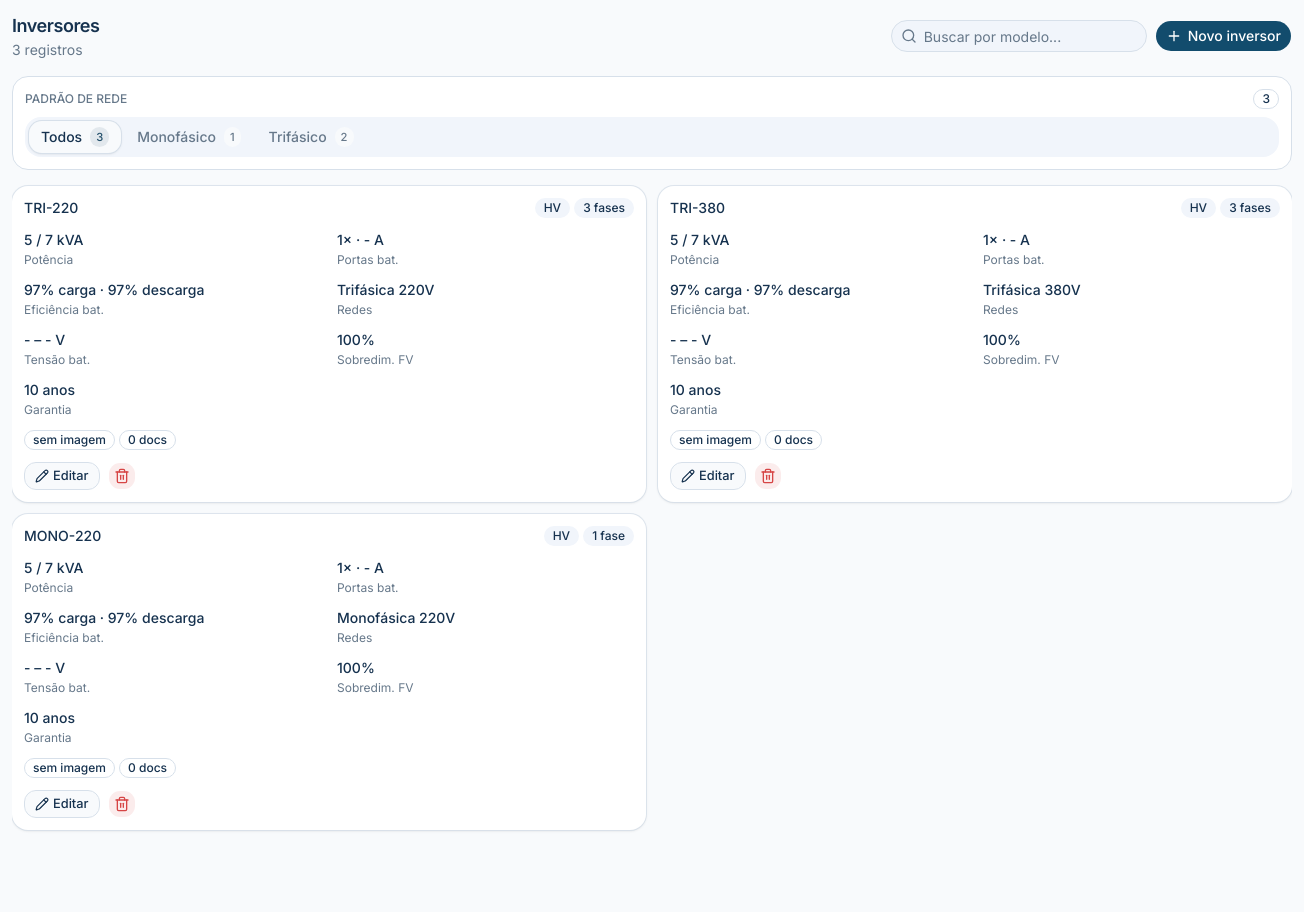
Scenario: InvertersEditor: listing › sub-groups Trifásico by grid voltage (220V/380V), and resets the voltage filter when switching phases
Click the button "Trifásico 2" at (311, 137), box 257,121 -> 366,153
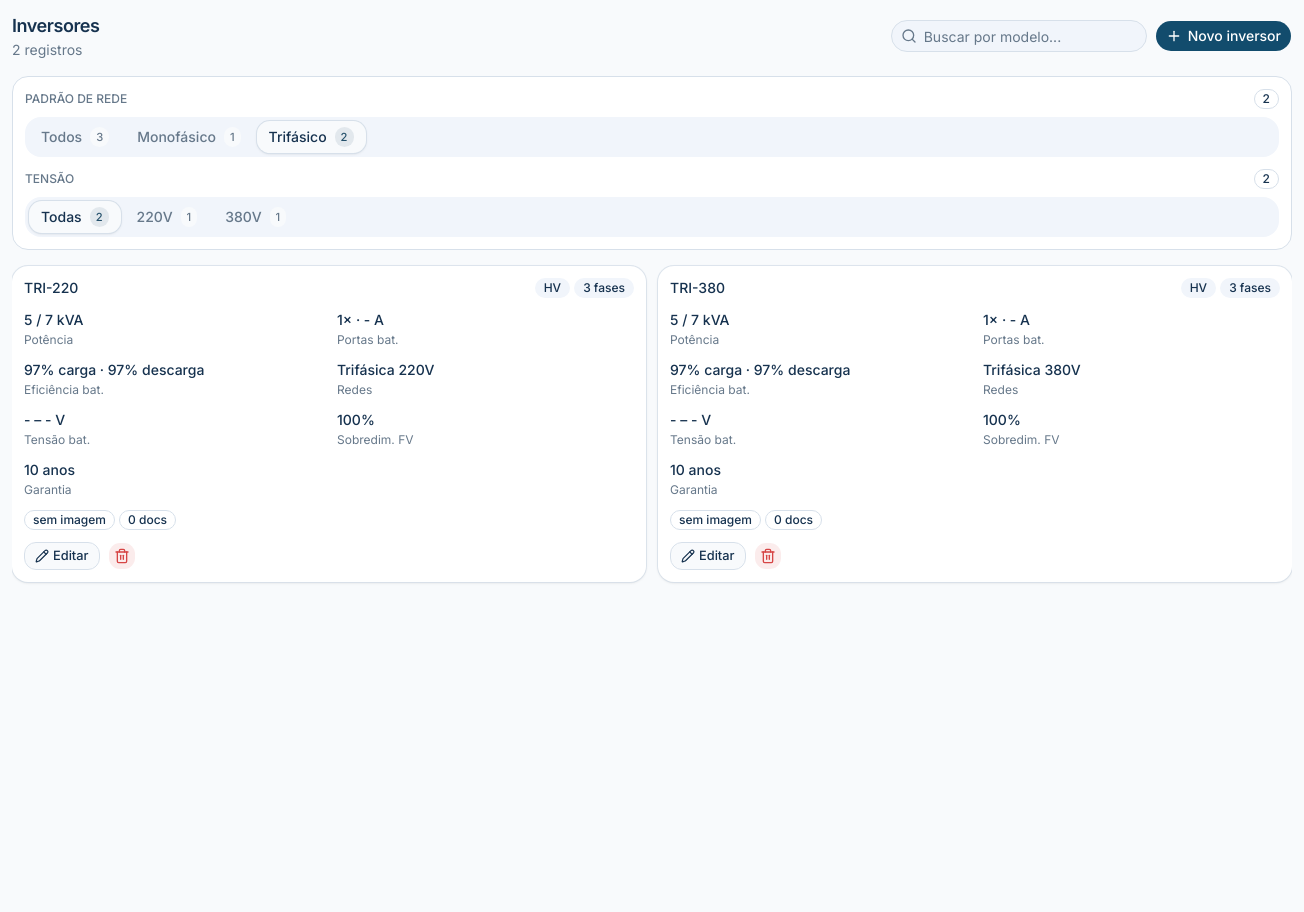
Expected: the text "Tri-220" is shown, 24,278 -> 78,297
Expected: the text "Tri-380" is shown, 670,278 -> 725,297
Click the button "220V 1" at (167, 217), box 125,201 -> 209,233
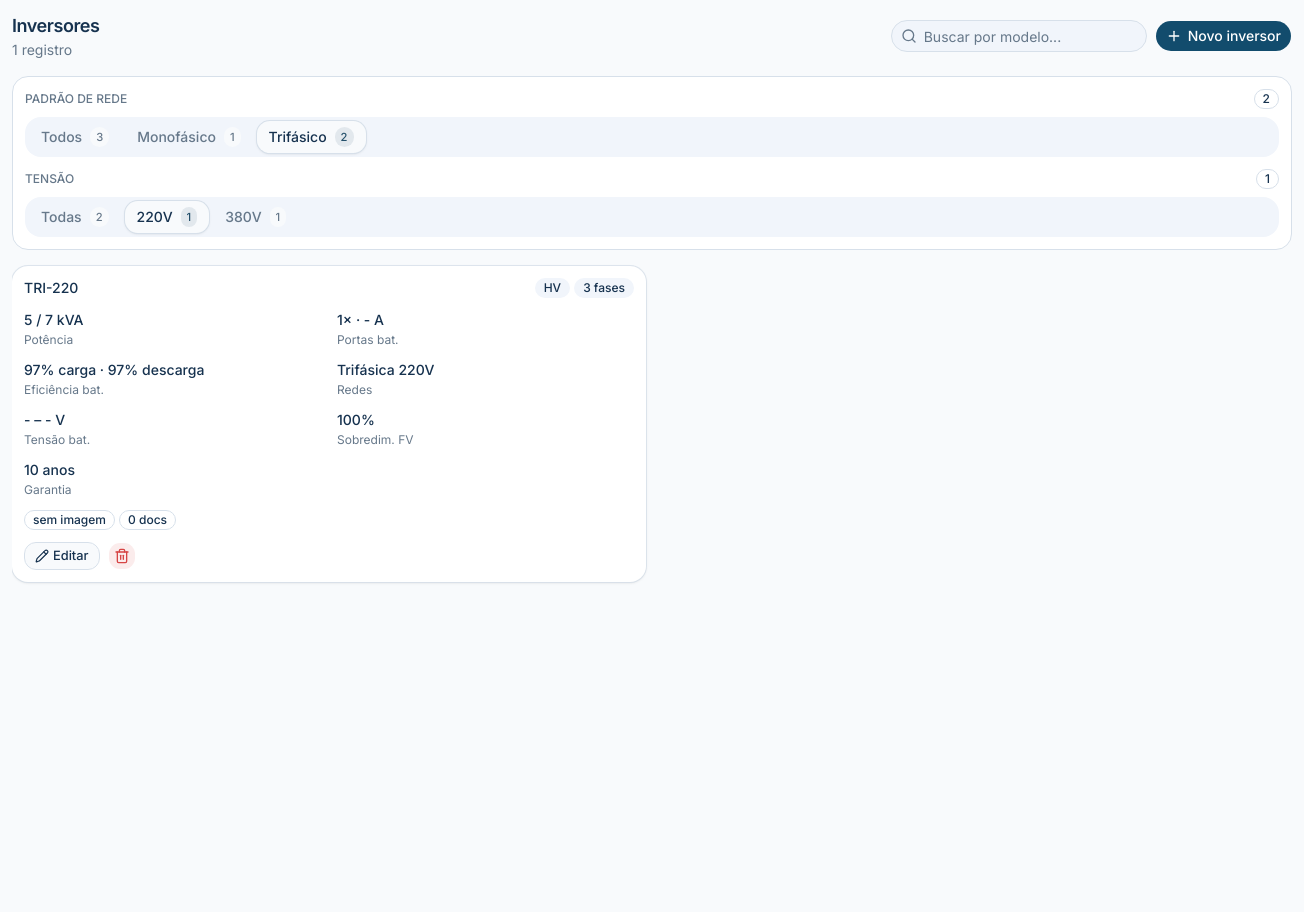
Expected: the text "Tri-220" is shown, 24,278 -> 78,297
Expected: the text "Tri-380" is gone
Click the button "Todos 3" at (75, 137), box 29,121 -> 121,153
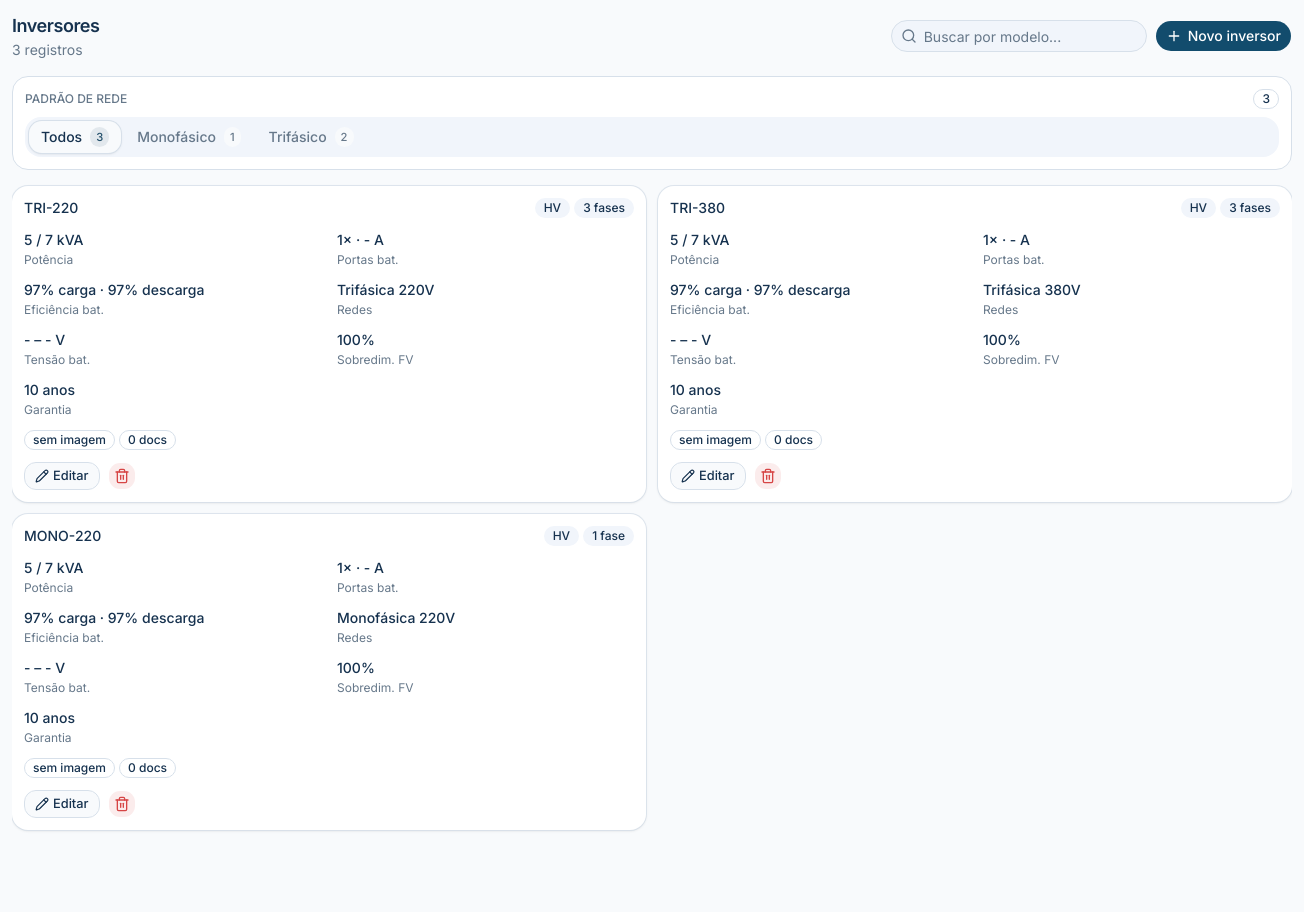
Expected: the text "Tri-380" is shown, 670,198 -> 725,217
